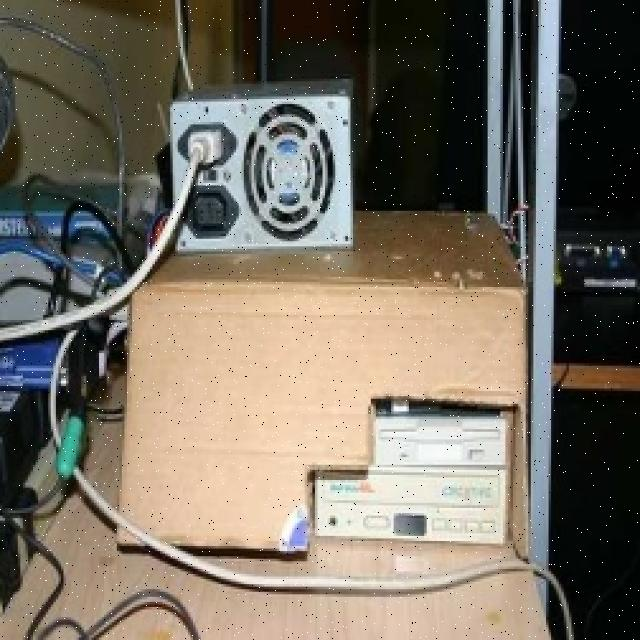box: (133, 221, 540, 560)
